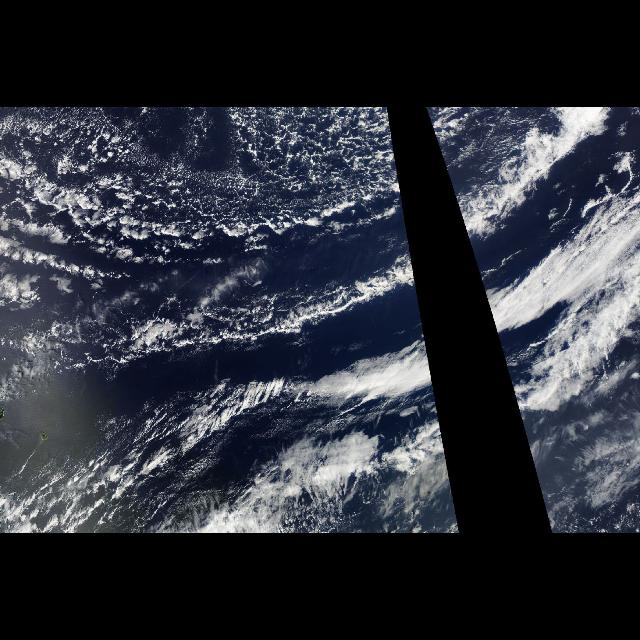Fish: (135, 145, 429, 353), (438, 145, 572, 353)
Gravel: (2, 111, 410, 333), (426, 111, 454, 195)
